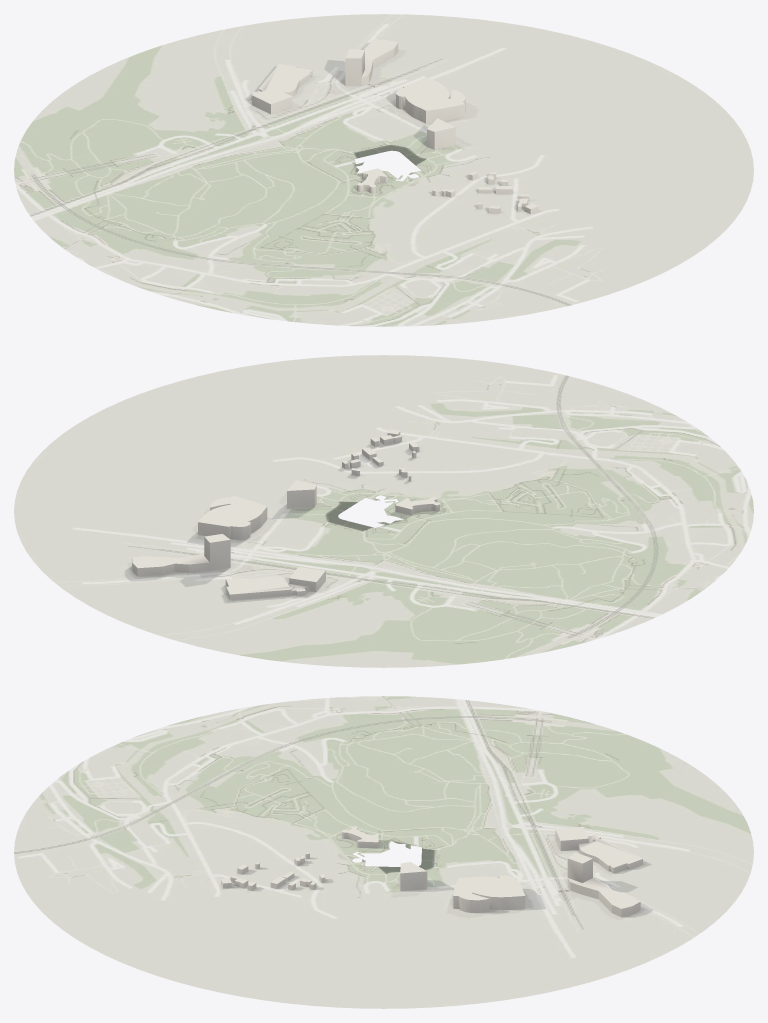
Rendered from context-map.glb.
3 renders of one model, top to bottom at view 1: azimuth 30°, elevation 25°; view 2: azimuth 150°, elevation 25°; view 3: azimuth 270°, elevation 25°, orthographic.
Visible parts, largest first — view 1: ground, context-massing; view 2: ground, context-massing; view 3: ground, context-massing.
Boxes of the visible parts, x1,y1,x2,y2 form: ground: (14,14,753,326); context-massing: (251,39,538,213); ground: (14,355,753,667); context-massing: (132,429,439,599); ground: (14,696,753,1008); context-massing: (221,826,642,917).
Size of the model in its own units: 1200 by 50.15 by 1200.
2 materials, 1 textured.
